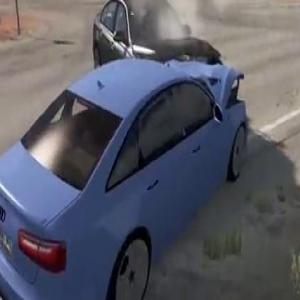negligible: (0, 0, 252, 300)
